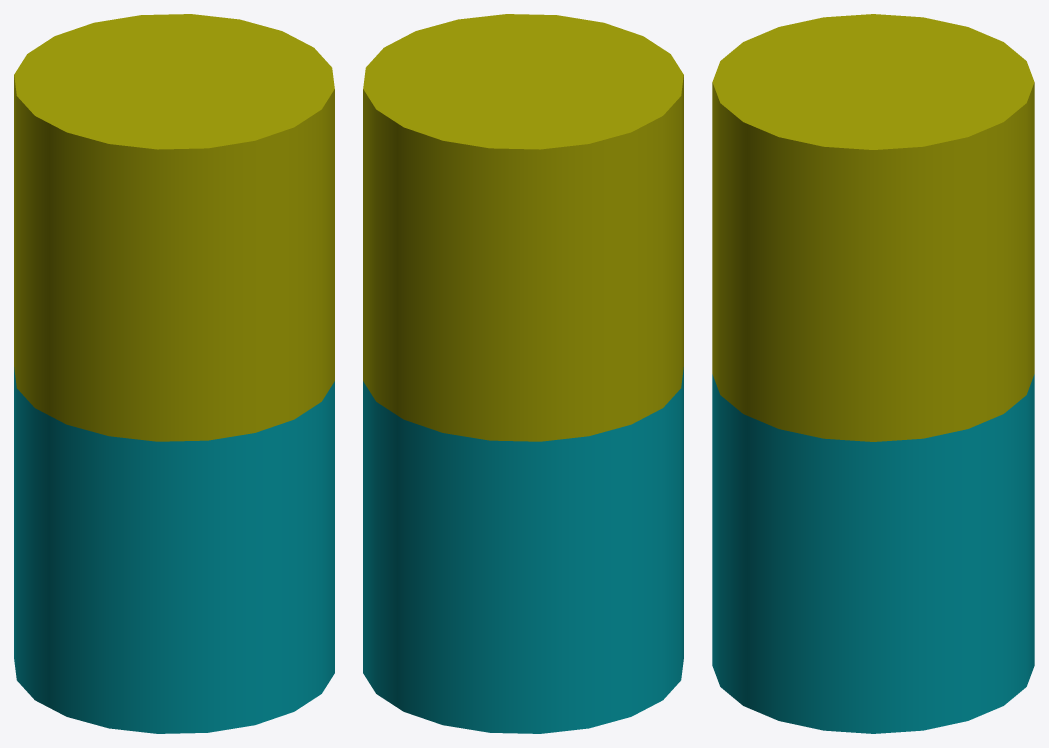
3 views of the same model, side by side, from view 1: azimuth 30°, elevation 25°; view 2: azimuth 150°, elevation 25°; view 3: azimuth 270°, elevation 25° (orthographic).
Visible parts, largest first — view 1: Cylinder; view 2: Cylinder; view 3: Cylinder.
Boxes of the visible parts, box(x1,y1,x2,y2) form: Cylinder: box(14, 14, 334, 733); Cylinder: box(363, 14, 683, 733); Cylinder: box(712, 14, 1034, 733).
Size of the model in its own units: 100 by 200 by 100.
